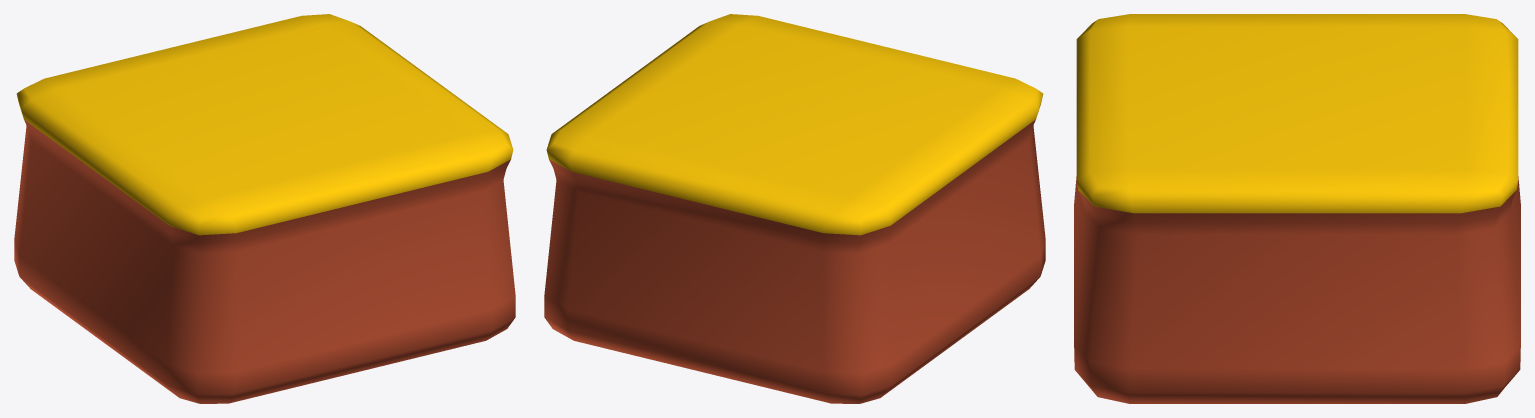
Rendered from Platform1.fbx.
The picture shows the model from 3 angles, left to right: view 1: azimuth 30°, elevation 25°; view 2: azimuth 150°, elevation 25°; view 3: azimuth 270°, elevation 25°; orthographic projection. The views are drawn at different scales.
Visible parts, largest first — view 1: Platform1; view 2: Platform1; view 3: Platform1.
Part boxes in pixels (left/top/right/bottom): Platform1: left=14, top=14, right=515, bottom=403; Platform1: left=544, top=14, right=1045, bottom=403; Platform1: left=1074, top=14, right=1520, bottom=403.
Bounding box in the file's own units: 3.9 × 3.9 × 2.16.
